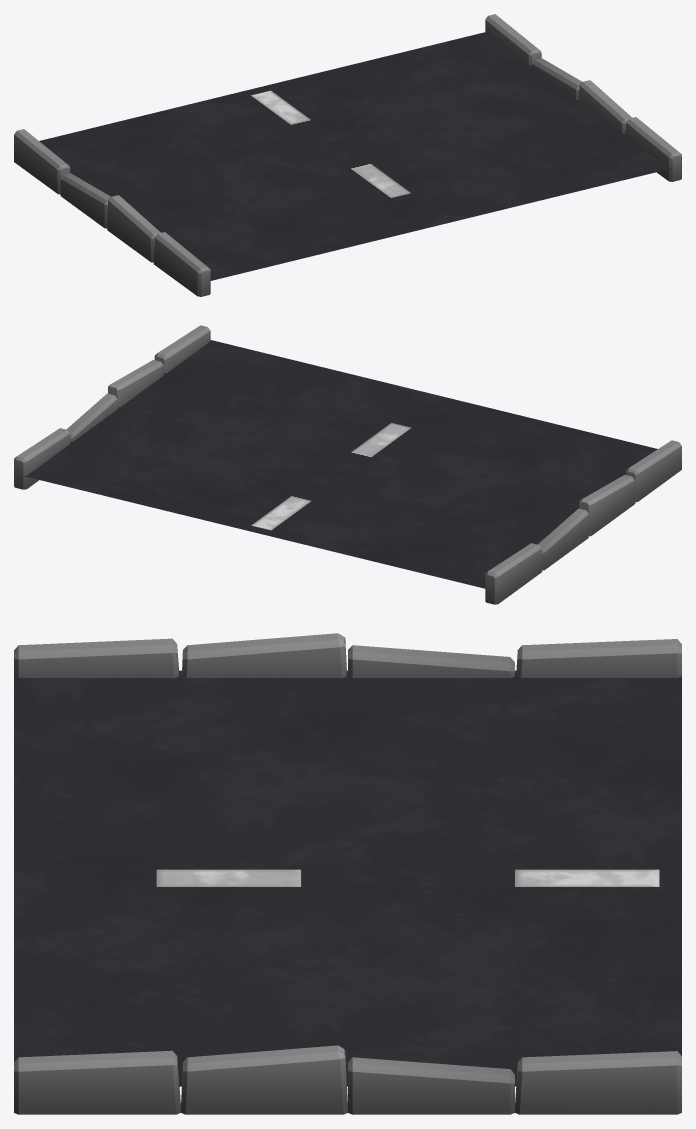
File: Road.fbx
3 renders of one model, top to bottom at view 1: azimuth 30°, elevation 25°; view 2: azimuth 150°, elevation 25°; view 3: azimuth 270°, elevation 25°, orthographic. The views are drawn at different scales.
Visible parts, largest first — view 1: Road; view 2: Road; view 3: Road.
Part boxes in pixels (x1,y1,x2,y2): Road: (14, 14, 681, 296); Road: (14, 325, 681, 604); Road: (14, 633, 681, 1114).
Size of the model in its own units: 600 by 40 by 400.
